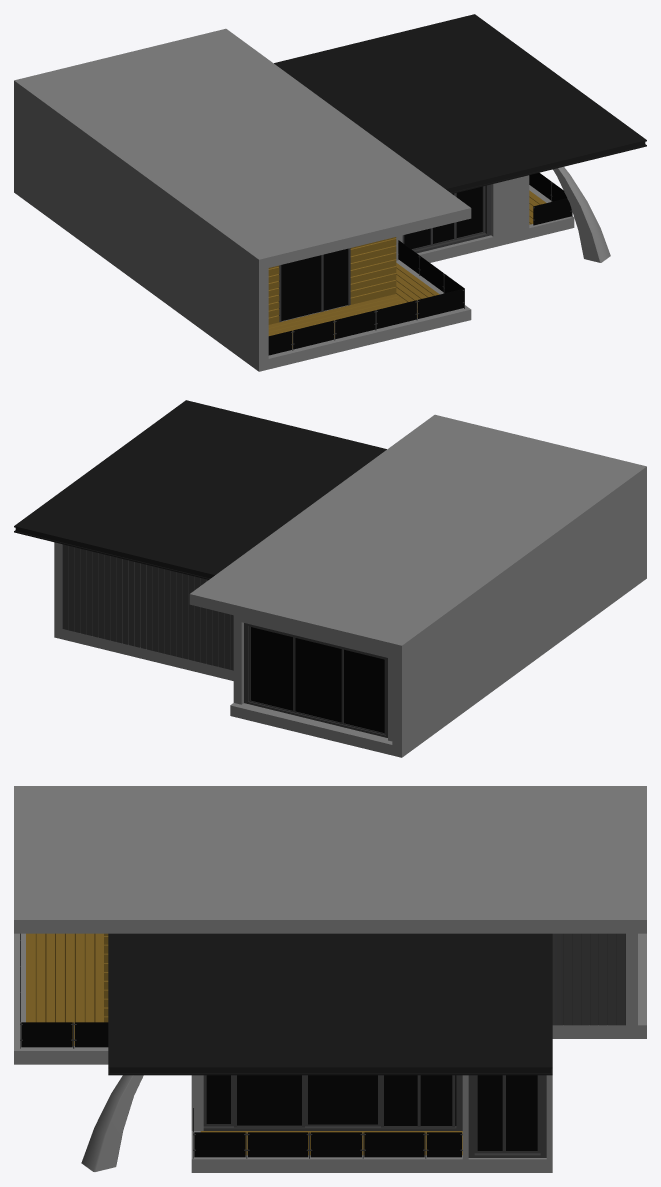
The model's file is SM_BuildingMK1_Middle-Roof02.fbx.
3 views of the same model, one above another, from view 1: azimuth 30°, elevation 25°; view 2: azimuth 150°, elevation 25°; view 3: azimuth 270°, elevation 25° (orthographic). The views are drawn at different scales.
Parts seen in each view (by area): view 1: Middle/Roof02; view 2: Middle/Roof02; view 3: Middle/Roof02.
Part boxes in pixels (x1,y1,x2,y2): Middle/Roof02: [14, 14, 646, 371]; Middle/Roof02: [14, 400, 646, 757]; Middle/Roof02: [14, 786, 646, 1172].
Size of the model in its own units: 2100 by 530 by 2100.
